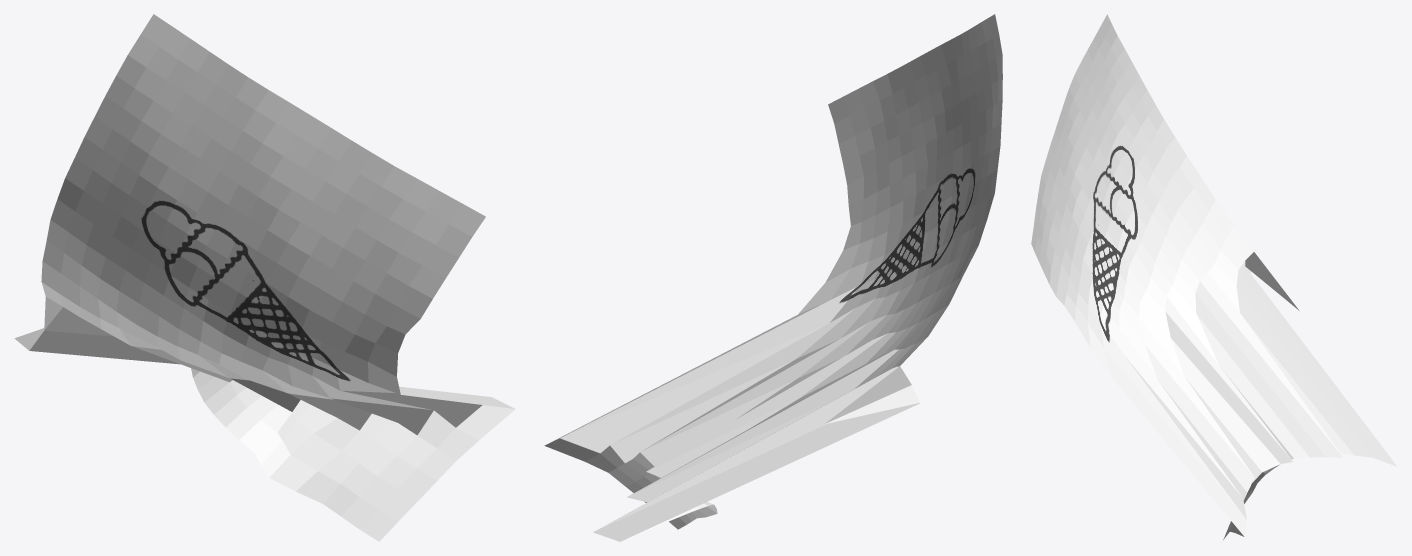
File: Gucci.glb
The picture shows the model from 3 angles, left to right: view 1: azimuth 30°, elevation 25°; view 2: azimuth 150°, elevation 25°; view 3: azimuth 270°, elevation 25°; orthographic projection. The views are drawn at different scales.
Parts seen in each view (by area): view 1: Gucci; view 2: Gucci; view 3: Gucci.
Boxes of the visible parts, left/top/right/bottom form: Gucci: left=14, top=14, right=515, bottom=541; Gucci: left=544, top=14, right=1002, bottom=541; Gucci: left=1031, top=14, right=1397, bottom=539.
Size of the model in its own units: 0.3944 by 0.4921 by 0.3807.
1 material, 1 textured.
